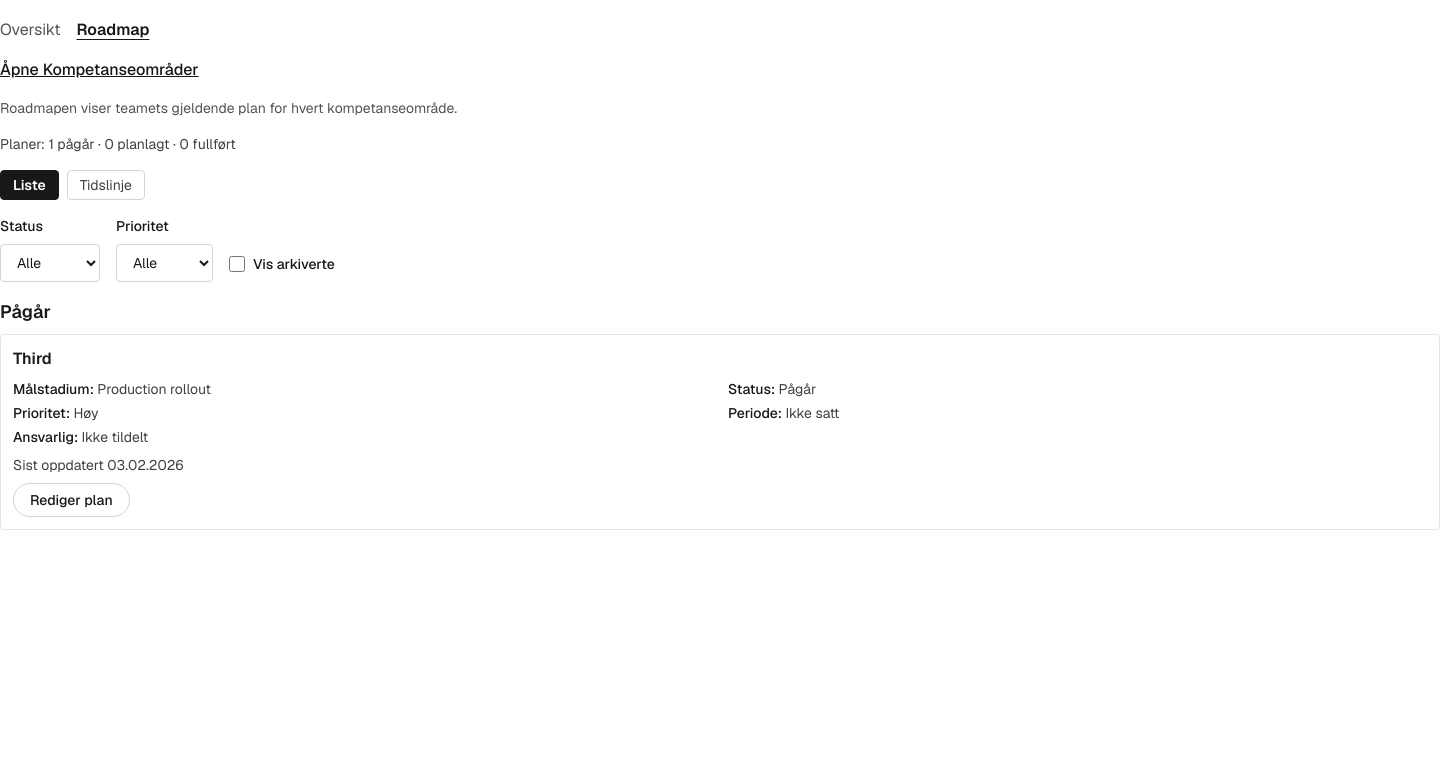
TASK-012 — accessibility structure › gives every restore control its own area-specific name when several archived plans are visible
The width and height of the screenshot is (1440, 780).
Click the checkbox labelled "Vis arkiverte".
click(237, 264)  # box [229, 256, 245, 272]
(page scrolled)
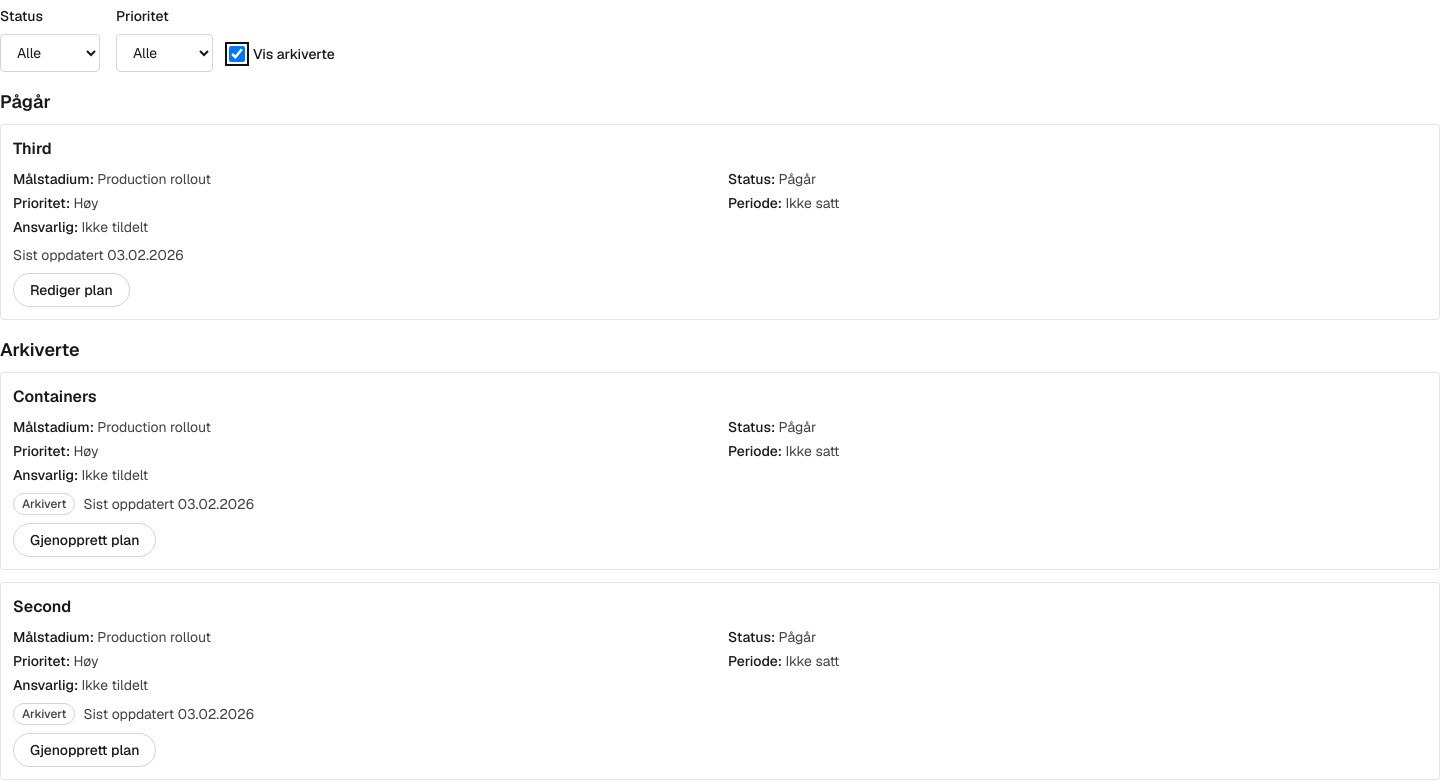
Expected: the button with aria-label "Gjenopprett plan – Containers" is shown, [13, 523, 156, 557]
Expected: the button with aria-label "Gjenopprett plan – Second" is shown, [13, 733, 156, 767]
